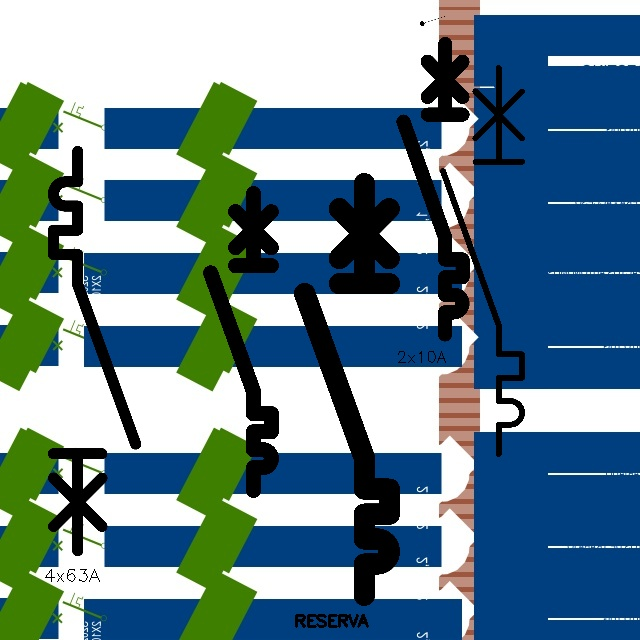interruptor_termomagnetico: (294, 173, 400, 606), (43, 141, 146, 561), (433, 58, 532, 464), (203, 186, 279, 498), (396, 36, 470, 341)
